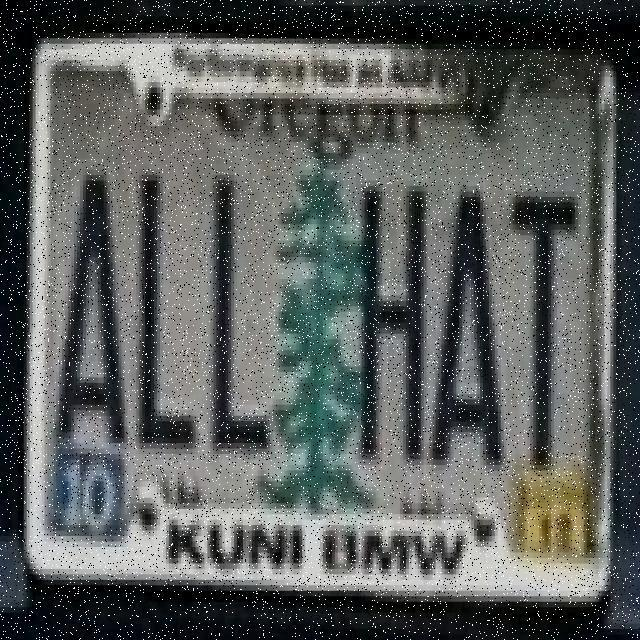LicensePlate: (25, 35, 620, 607)
